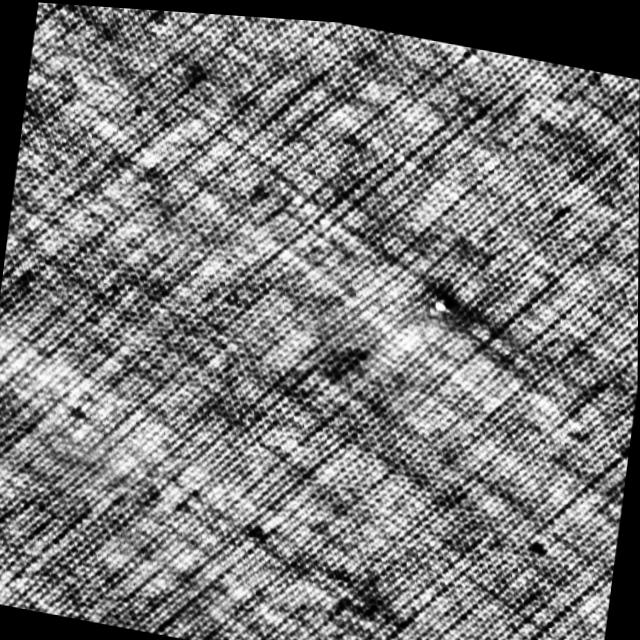Hole: (422, 280, 463, 314)
